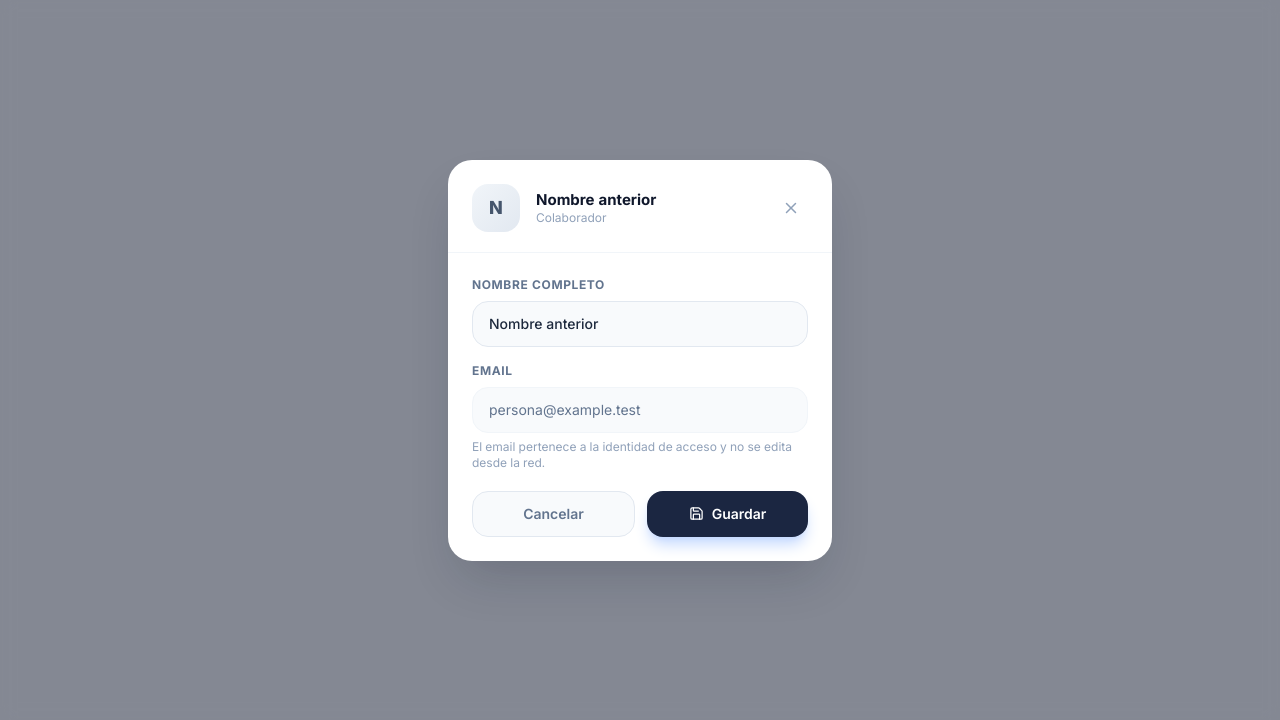
Test: ZIN-SDD-041 Franchise network identity editor › keeps the editor open when the server rejects a stale relationship
Click the button "Guardar": {"x": 728, "y": 514} [647,490,808,536]
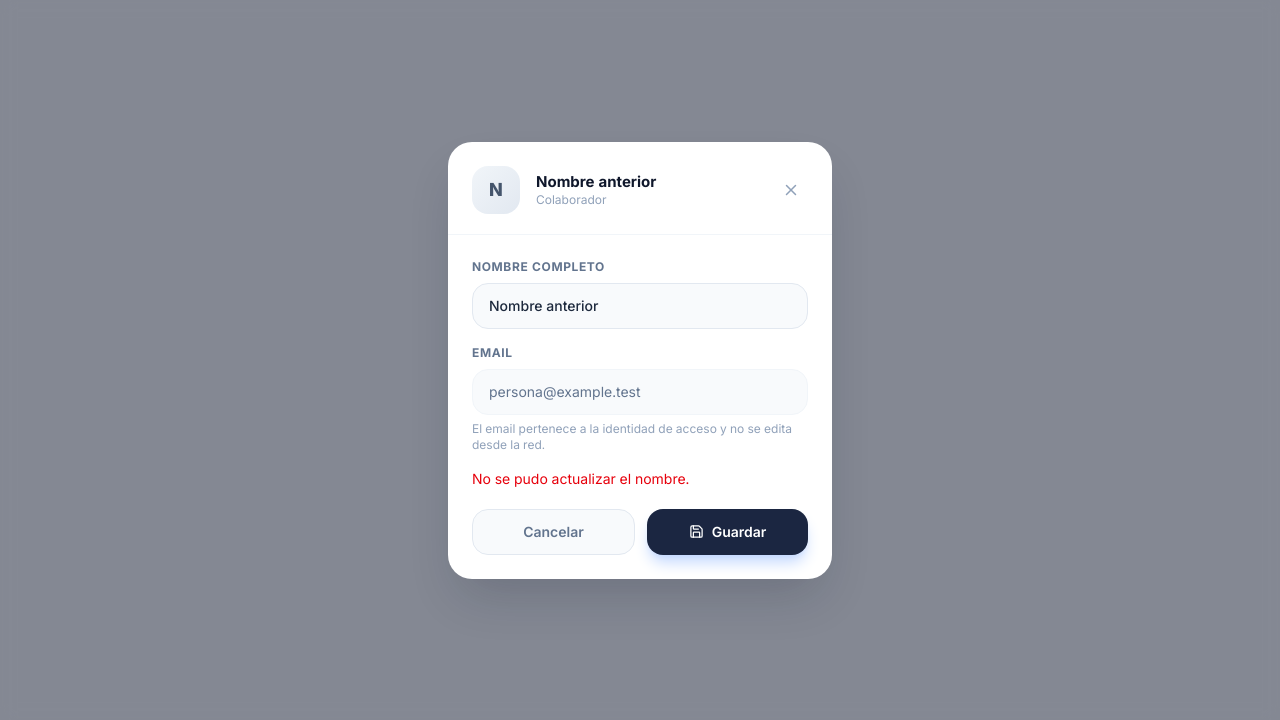
Result: the text "No se pudo actualizar el nombre." is shown at [472,470,689,486]
